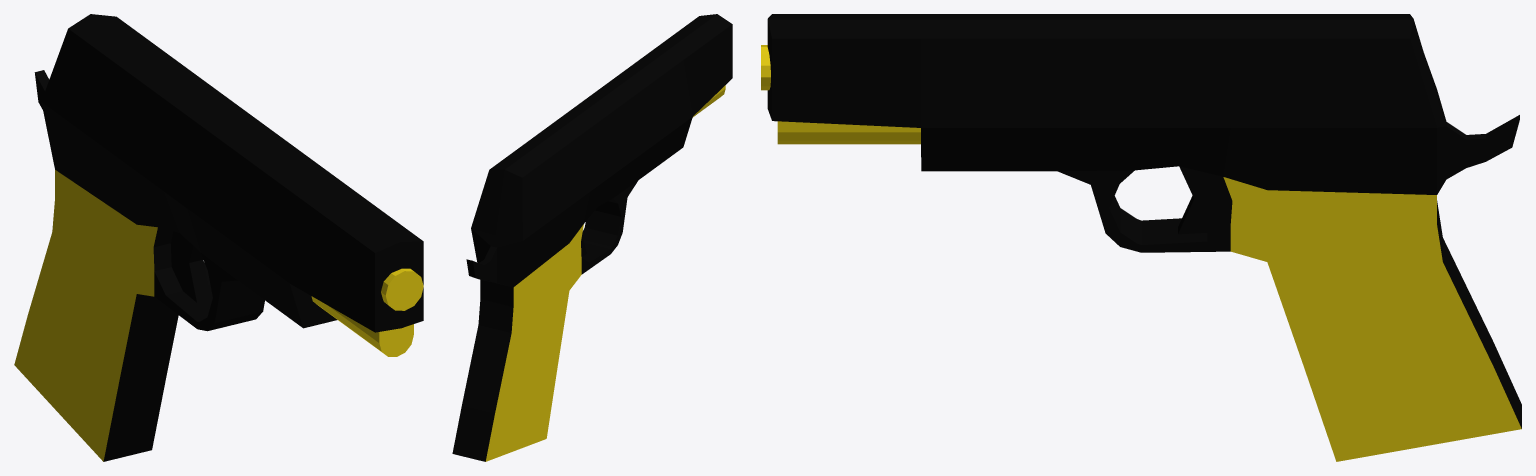
Rendered from gun.glb.
The picture shows the model from 3 angles, left to right: view 1: azimuth 30°, elevation 25°; view 2: azimuth 150°, elevation 25°; view 3: azimuth 270°, elevation 25°; orthographic projection. The views are drawn at different scales.
Visible parts, largest first — view 1: Weapon_04; view 2: Weapon_04; view 3: Weapon_04.
Part boxes in pixels (x1,y1,x2,y2): Weapon_04: (14,14,423,461); Weapon_04: (452,14,732,461); Weapon_04: (761,14,1521,461).
Size of the model in its own units: 0.0239 by 0.1248 by 0.1997.
